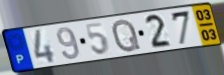2: (144, 12, 174, 50)
4: (33, 28, 57, 65)
5: (83, 22, 112, 57)
7: (169, 10, 193, 46)
9: (55, 26, 82, 61)
Q: (110, 17, 143, 54)
